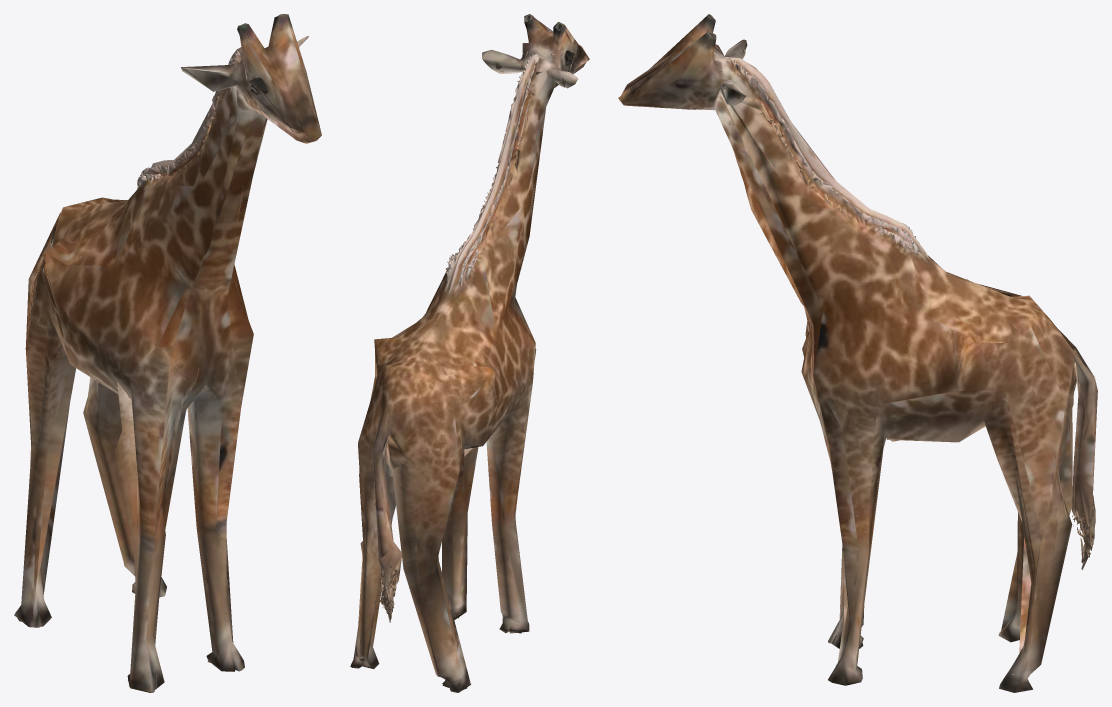
The model's file is jirafa.glb.
3 renders of one model, left to right at view 1: azimuth 30°, elevation 25°; view 2: azimuth 150°, elevation 25°; view 3: azimuth 270°, elevation 25°, orthographic. The views are drawn at different scales.
Visible parts, largest first — view 1: geometry_0; view 2: geometry_0; view 3: geometry_0.
Part boxes in pixels (left/top/right/bottom): geometry_0: left=14, top=14, right=321, bottom=692; geometry_0: left=350, top=14, right=589, bottom=692; geometry_0: left=618, top=14, right=1097, bottom=692.
Bounding box in the file's own units: 0.2268 × 1 × 0.6818.
Materials: 1 (1 with a texture image).
